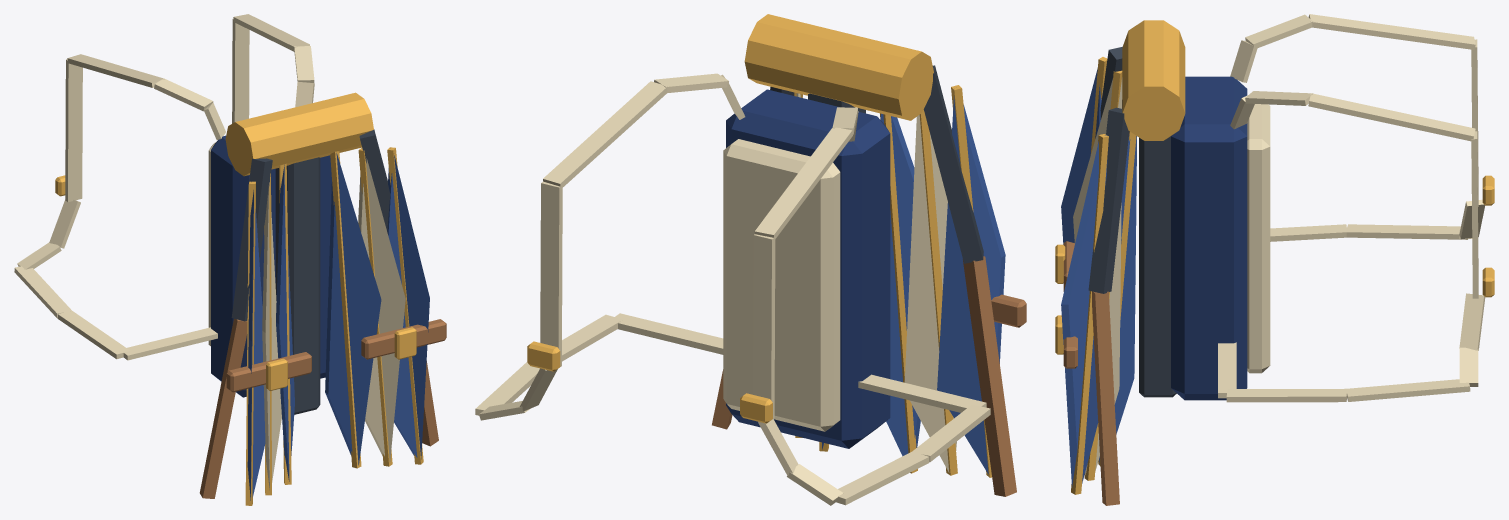
Rendered from itm_glider_cape_folded.glb.
3 views of the same model, side by side, from view 1: azimuth 30°, elevation 25°; view 2: azimuth 150°, elevation 25°; view 3: azimuth 270°, elevation 25° (orthographic). The views are drawn at different scales.
Visible parts, largest first — view 1: itm_glider_cape_folded, itm_glider_cape_folded__back_harness, itm_glider_cape_folded__hinge_spine, itm_glider_cape_folded__deployment_hinge, itm_glider_cape_folded__folded_lower_spar_right, itm_glider_cape_folded__folded_leading_spar_right, itm_glider_cape_folded__fold_retaining_strap_left, itm_glider_cape_folded__fold_retaining_strap_right, itm_glider_cape_folded__folded_leading_spar_left, itm_glider_cape_folded__folded_lower_spar_left, itm_glider_cape_folded__fold_retaining_clasp_left, itm_glider_cape_folded__fold_retaining_clasp_right (+1 smaller); view 2: itm_glider_cape_folded, itm_glider_cape_folded__harness_cushion, itm_glider_cape_folded__back_harness, itm_glider_cape_folded__deployment_hinge, itm_glider_cape_folded__folded_lower_spar_right, itm_glider_cape_folded__folded_leading_spar_right, itm_glider_cape_folded__fold_retaining_strap_right, itm_glider_cape_folded__harness_clasp_left, itm_glider_cape_folded__harness_clasp_right; view 3: itm_glider_cape_folded, itm_glider_cape_folded__back_harness, itm_glider_cape_folded__hinge_spine, itm_glider_cape_folded__deployment_hinge, itm_glider_cape_folded__harness_cushion, itm_glider_cape_folded__folded_lower_spar_left, itm_glider_cape_folded__folded_leading_spar_left, itm_glider_cape_folded__folded_leading_spar_right.
Boxes of the visible parts, <box> form: itm_glider_cape_folded: <box>14,14,429,505</box>; itm_glider_cape_folded__back_harness: <box>211,135,331,397</box>; itm_glider_cape_folded__hinge_spine: <box>275,157,320,414</box>; itm_glider_cape_folded__deployment_hinge: <box>225,92,373,176</box>; itm_glider_cape_folded__folded_lower_spar_right: <box>199,318,247,498</box>; itm_glider_cape_folded__folded_leading_spar_right: <box>231,158,272,321</box>; itm_glider_cape_folded__fold_retaining_strap_left: <box>361,319,446,359</box>; itm_glider_cape_folded__fold_retaining_strap_right: <box>226,352,311,392</box>; itm_glider_cape_folded__folded_leading_spar_left: <box>359,129,390,231</box>; itm_glider_cape_folded__folded_lower_spar_left: <box>422,361,438,446</box>; itm_glider_cape_folded__fold_retaining_clasp_left: <box>394,327,416,359</box>; itm_glider_cape_folded__fold_retaining_clasp_right: <box>266,358,287,390</box>; itm_glider_cape_folded: <box>475,73,1005,505</box>; itm_glider_cape_folded__harness_cushion: <box>723,139,840,431</box>; itm_glider_cape_folded__back_harness: <box>726,89,890,448</box>; itm_glider_cape_folded__deployment_hinge: <box>744,14,933,120</box>; itm_glider_cape_folded__folded_lower_spar_right: <box>962,256,1016,496</box>; itm_glider_cape_folded__folded_leading_spar_right: <box>923,65,983,263</box>; itm_glider_cape_folded__fold_retaining_strap_right: <box>991,294,1026,327</box>; itm_glider_cape_folded__harness_clasp_left: <box>527,341,560,371</box>; itm_glider_cape_folded__harness_clasp_right: <box>740,393,772,423</box>; itm_glider_cape_folded: <box>1061,14,1485,494</box>; itm_glider_cape_folded__back_harness: <box>1171,76,1247,400</box>; itm_glider_cape_folded__hinge_spine: <box>1139,136,1176,397</box>; itm_glider_cape_folded__deployment_hinge: <box>1122,20,1185,140</box>; itm_glider_cape_folded__harness_cushion: <box>1247,104,1270,373</box>; itm_glider_cape_folded__folded_lower_spar_left: <box>1092,291,1119,505</box>; itm_glider_cape_folded__folded_leading_spar_left: <box>1088,107,1129,293</box>; itm_glider_cape_folded__folded_leading_spar_right: <box>1100,47,1122,119</box>.
Bounding box in the file's own units: 0.545 × 0.5794 × 0.5865.
